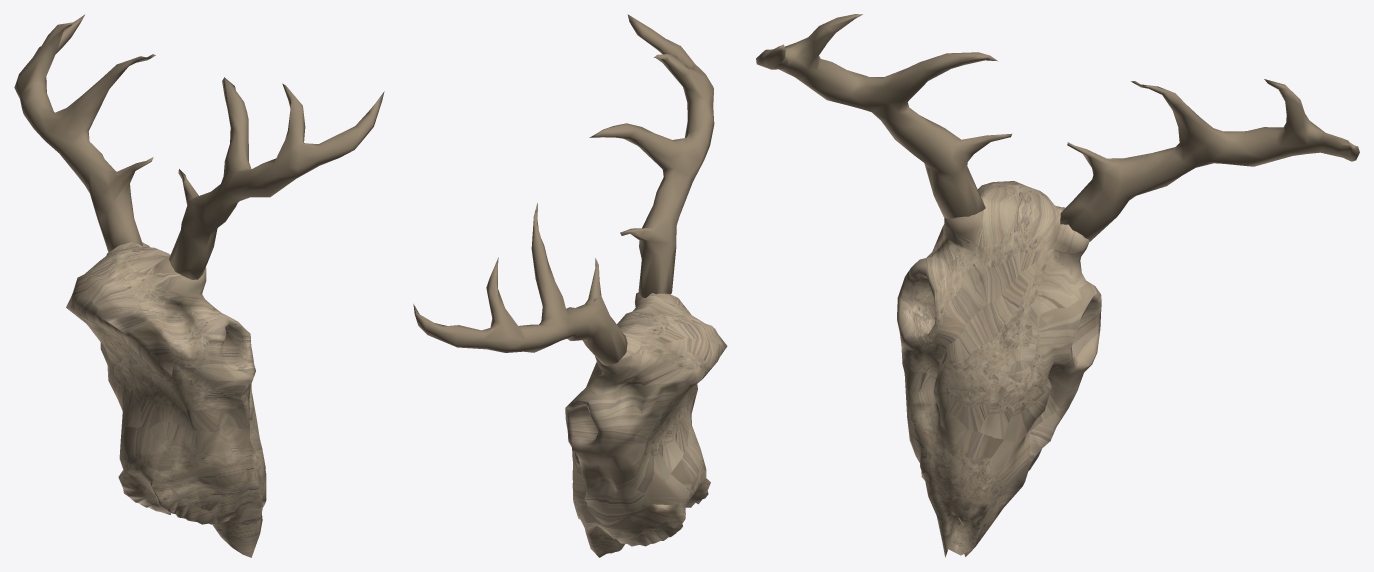
File: skull.glb
The picture shows the model from 3 angles, left to right: view 1: azimuth 30°, elevation 25°; view 2: azimuth 150°, elevation 25°; view 3: azimuth 270°, elevation 25°; orthographic projection. The views are drawn at different scales.
Parts seen in each view (by area): view 1: Deer_Skull_High_Poly; view 2: Deer_Skull_High_Poly; view 3: Deer_Skull_High_Poly.
Boxes of the visible parts, bbox=[...] form: Deer_Skull_High_Poly: bbox=[14, 14, 384, 557]; Deer_Skull_High_Poly: bbox=[413, 14, 727, 557]; Deer_Skull_High_Poly: bbox=[756, 14, 1359, 557].
Bounding box in the file's own units: 0.2497 × 0.6073 × 0.6115.
Materials: 1 (1 with a texture image).
